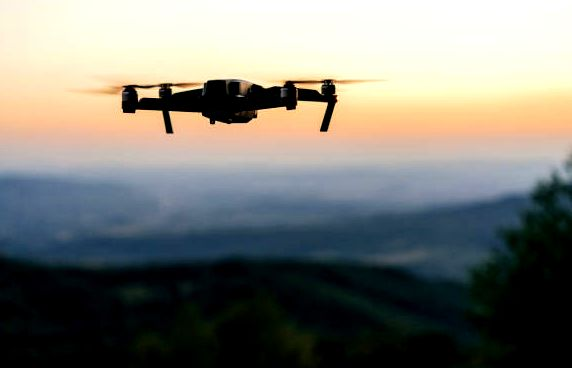Drone: (74, 71, 381, 136)
